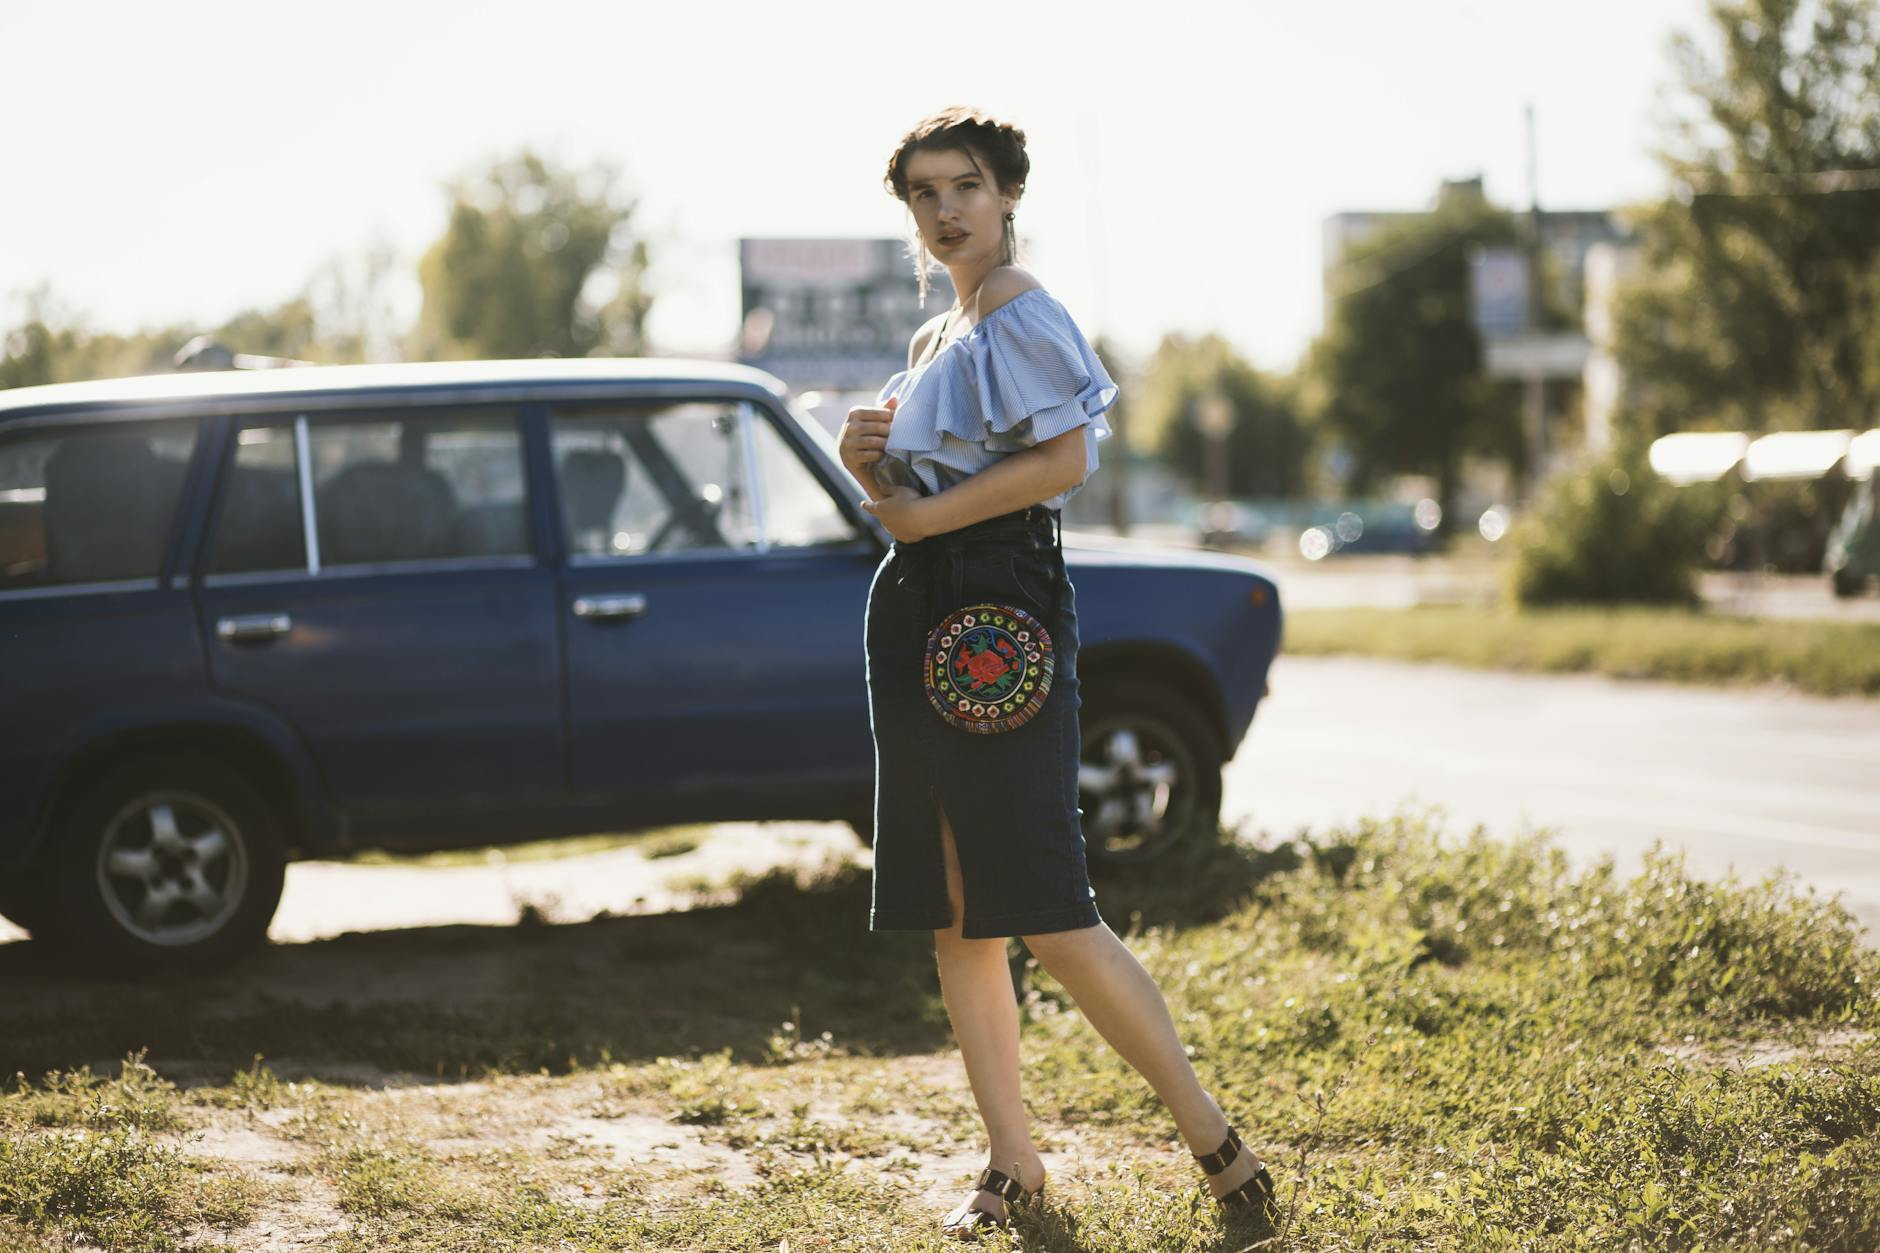opened_foot: (1188, 1141, 1290, 1250), (938, 1158, 1040, 1245)
short_medium_skirt: (854, 491, 1120, 934)
